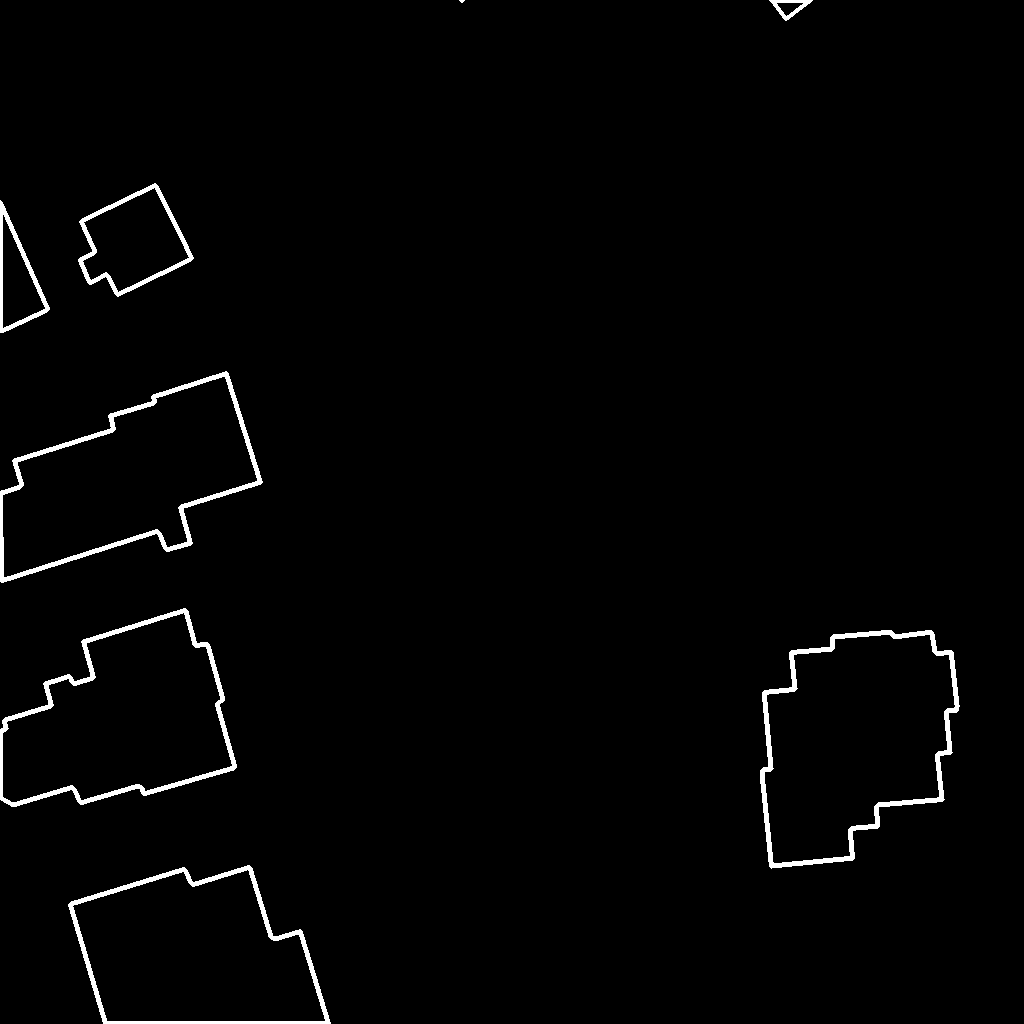building: (0, 373, 262, 582), (0, 610, 236, 806), (762, 632, 958, 867), (70, 867, 330, 1024), (80, 185, 193, 296), (0, 201, 49, 332), (771, 0, 812, 20), (461, 0, 464, 2)
